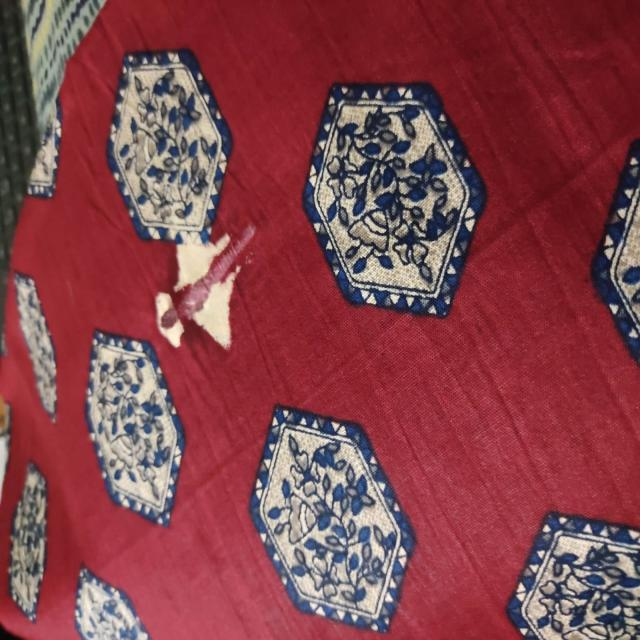stain: (134, 224, 243, 343)
